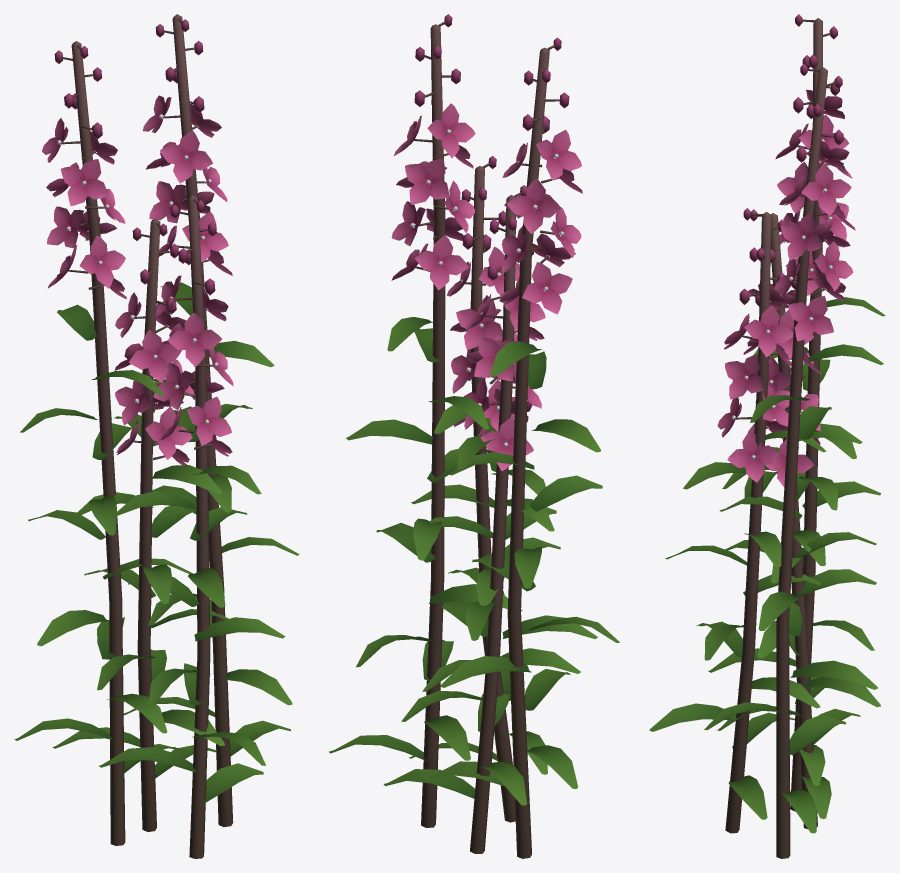
The model's file is SM_Flower_Fireweed.fbx.
The picture shows the model from 3 angles, left to right: view 1: azimuth 30°, elevation 25°; view 2: azimuth 150°, elevation 25°; view 3: azimuth 270°, elevation 25°; orthographic projection. The views are drawn at different scales.
Visible parts, largest first — view 1: SM_Flower_Fireweed; view 2: SM_Flower_Fireweed; view 3: SM_Flower_Fireweed.
Boxes of the visible parts, x1=… form: SM_Flower_Fireweed: x1=14, y1=14, x2=299, y2=858; SM_Flower_Fireweed: x1=329, y1=14, x2=619, y2=858; SM_Flower_Fireweed: x1=649, y1=14, x2=885, y2=858.
Size of the model in its own units: 0.3684 by 1.05 by 0.2904.
